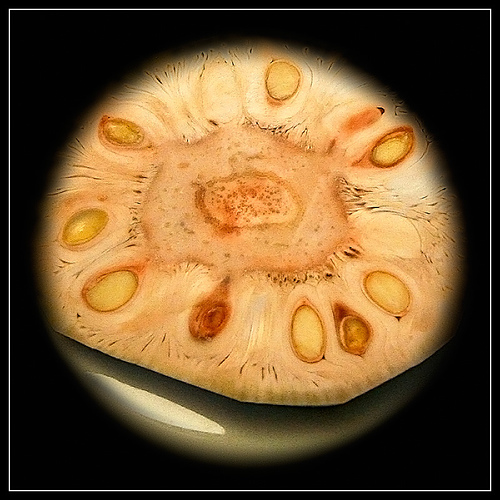jackfruit: (33, 38, 466, 408)
